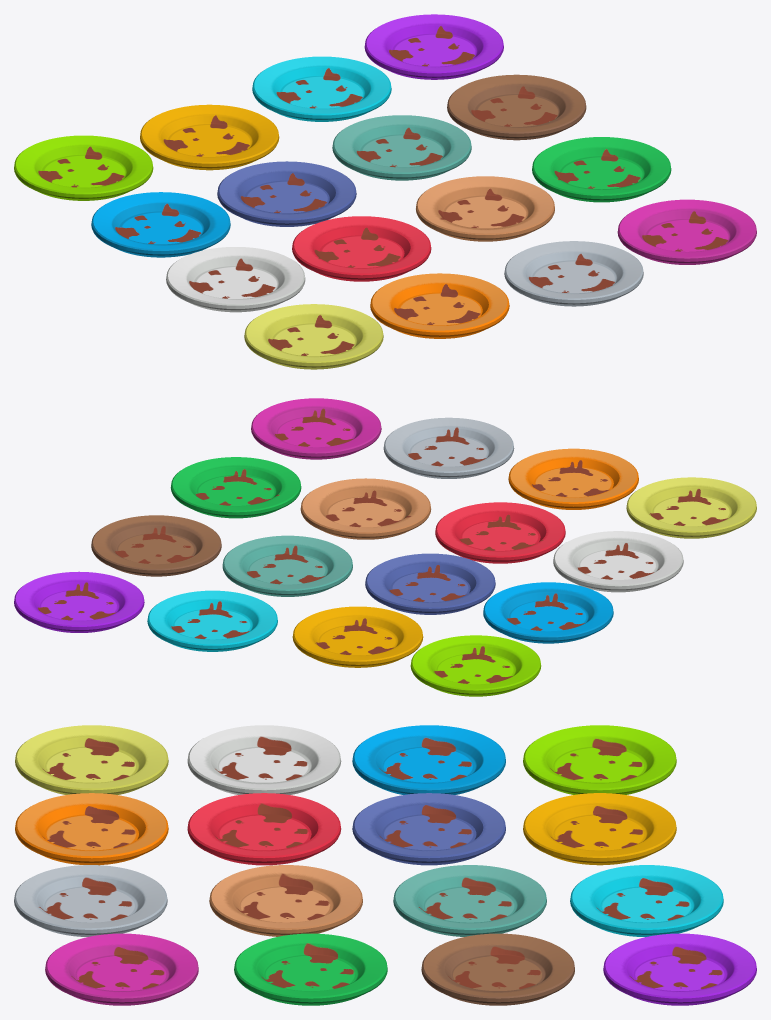
The model's file is Plates All.fbx.
The picture shows the model from 3 angles, top to bottom: view 1: azimuth 30°, elevation 25°; view 2: azimuth 150°, elevation 25°; view 3: azimuth 270°, elevation 25°; orthographic projection. The views are drawn at different scales.
Visible parts, largest first — view 1: Plate_09, Plate_01, Plate_11, Plate_16, Plate_03, Plate_12, Plate_15, Plate04, Plate_07, Plate_10, Plate_02, Plate_05 (+4 smaller); view 2: Plate_15, Plate_03, Plate_01, Plate_10, Plate_02, Plate_07, Plate_13, Plate_08, Plate04, Plate_11, Plate_12, Plate_06 (+4 smaller); view 3: Plate_15, Plate_16, Plate_14, Plate_13, Plate_07, Plate_08, Plate_06, Plate_05, Plate_12, Plate_09, Plate_11, Plate_10 (+4 smaller).
Boxes of the visible parts, x1,y1,x2,y2 form: Plate_09: (504,241,643,306); Plate_01: (244,304,383,369); Plate_11: (332,115,471,180); Plate_16: (364,14,503,79); Plate_03: (91,192,230,257); Plate_12: (252,56,391,121); Plate_15: (447,74,586,140); Plate04: (14,135,153,200); Plate_07: (140,104,279,170); Plate_10: (416,176,554,241); Plate_02: (166,247,305,312); Plate_05: (370,273,509,338); Plate_15: (91,515,221,576); Plate_03: (483,582,613,643); Plate_01: (626,477,756,538); Plate_10: (300,478,431,539); Plate_02: (553,531,683,592); Plate_07: (292,606,423,667); Plate_13: (251,398,381,459); Plate_08: (365,553,495,614); Plate04: (410,635,541,696); Plate_11: (222,535,352,596); Plate_12: (147,590,277,651); Plate_06: (435,502,565,563); Plate_15: (421,933,574,1005); Plate_16: (603,933,756,1005); Plate_14: (234,933,387,1005); Plate_13: (45,933,198,1005); Plate_07: (523,793,676,865); Plate_08: (352,793,505,865); Plate_06: (187,793,341,865); Plate_05: (15,793,168,865); Plate_12: (570,865,723,937); Plate_09: (14,865,167,936); Plate_11: (393,865,546,936); Plate_10: (209,865,362,936).
Bounding box in the file's own units: 953 × 32.29 × 1095.
Materials: 1 (1 with a texture image).
